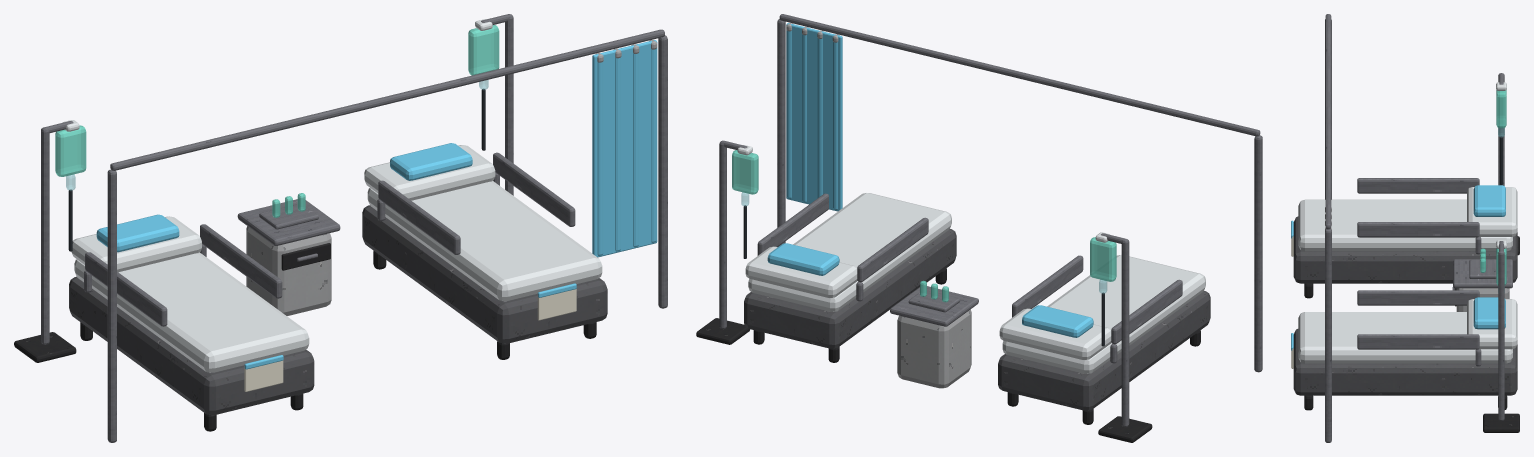
File: decor_med_ward_bay.glb
The picture shows the model from 3 angles, left to right: view 1: azimuth 30°, elevation 25°; view 2: azimuth 150°, elevation 25°; view 3: azimuth 270°, elevation 25°; orthographic projection. The views are drawn at different scales.
Visible parts, largest first — view 1: DEC_MedWardBay__Bed_2_Mattress, DEC_MedWardBay__Bed_1_Mattress, DEC_MedWardBay__Curtain, DEC_MedWardBay__Bed_2_Base, DEC_MedWardBay__Bed_1_Base, DEC_MedWardBay__Curtain_Rail, DEC_MedWardBay__Side_Table_Body, DEC_MedWardBay__Bed_2_Headrest, DEC_MedWardBay__Curtain_Post_1, DEC_MedWardBay__Curtain_Post_2, DEC_MedWardBay__Bed_1_Headrest, DEC_MedWardBay__Bed_2_Pillow (+19 smaller); view 2: DEC_MedWardBay__Bed_2_Mattress, DEC_MedWardBay__Bed_2_Base, DEC_MedWardBay__Bed_1_Base, DEC_MedWardBay__Bed_1_Mattress, DEC_MedWardBay__Curtain, DEC_MedWardBay__Side_Table_Body, DEC_MedWardBay__Curtain_Rail, DEC_MedWardBay__Bed_2_Headrest, DEC_MedWardBay__Bed_1_Headrest, DEC_MedWardBay__Curtain_Post_1, DEC_MedWardBay__Curtain_Post_2, DEC_MedWardBay__IV_1_Post (+17 smaller); view 3: DEC_MedWardBay__Bed_1_Mattress, DEC_MedWardBay__Bed_2_Mattress, DEC_MedWardBay__Bed_2_Base, DEC_MedWardBay__Bed_1_Base, DEC_MedWardBay__Bed_1_Rail_2, DEC_MedWardBay__Bed_2_Rail_2, DEC_MedWardBay__Bed_2_Rail_1, DEC_MedWardBay__Bed_1_Rail_1, DEC_MedWardBay__Curtain_Rail, DEC_MedWardBay__Curtain_Post_2, DEC_MedWardBay__Bed_1_Headrest, DEC_MedWardBay__Bed_2_Headrest (+10 smaller).
Boxes of the visible parts, x1=… form: DEC_MedWardBay__Bed_2_Mattress: x1=367, y1=181, x2=602, y2=301; DEC_MedWardBay__Bed_1_Mattress: x1=74, y1=252, x2=309, y2=372; DEC_MedWardBay__Curtain: x1=592, y1=40, x2=657, y2=257; DEC_MedWardBay__Bed_2_Base: x1=362, y1=205, x2=607, y2=343; DEC_MedWardBay__Bed_1_Base: x1=69, y1=276, x2=314, y2=415; DEC_MedWardBay__Curtain_Rail: x1=110, y1=29, x2=664, y2=170; DEC_MedWardBay__Side_Table_Body: x1=246, y1=226, x2=331, y2=315; DEC_MedWardBay__Bed_2_Headrest: x1=364, y1=145, x2=495, y2=200; DEC_MedWardBay__Curtain_Post_1: x1=107, y1=169, x2=116, y2=442; DEC_MedWardBay__Curtain_Post_2: x1=658, y1=35, x2=667, y2=308; DEC_MedWardBay__Bed_1_Headrest: x1=71, y1=216, x2=201, y2=272; DEC_MedWardBay__Bed_2_Pillow: x1=390, y1=143, x2=472, y2=180; DEC_MedWardBay__Bed_2_Mattress: x1=748, y1=193, x2=951, y2=311; DEC_MedWardBay__Bed_2_Base: x1=744, y1=229, x2=956, y2=348; DEC_MedWardBay__Bed_1_Base: x1=998, y1=291, x2=1210, y2=410; DEC_MedWardBay__Bed_1_Mattress: x1=1002, y1=255, x2=1205, y2=373; DEC_MedWardBay__Curtain: x1=786, y1=23, x2=842, y2=211; DEC_MedWardBay__Side_Table_Body: x1=897, y1=309, x2=971, y2=388; DEC_MedWardBay__Curtain_Rail: x1=779, y1=14, x2=1260, y2=136; DEC_MedWardBay__Bed_2_Headrest: x1=745, y1=246, x2=857, y2=298; DEC_MedWardBay__Bed_1_Headrest: x1=999, y1=308, x2=1111, y2=360; DEC_MedWardBay__Curtain_Post_1: x1=1254, y1=135, x2=1262, y2=372; DEC_MedWardBay__Curtain_Post_2: x1=777, y1=19, x2=785, y2=246; DEC_MedWardBay__IV_1_Post: x1=1121, y1=239, x2=1129, y2=427; DEC_MedWardBay__Bed_1_Mattress: x1=1298, y1=199, x2=1512, y2=251; DEC_MedWardBay__Bed_2_Mattress: x1=1298, y1=312, x2=1512, y2=363; DEC_MedWardBay__Bed_2_Base: x1=1293, y1=329, x2=1517, y2=395; DEC_MedWardBay__Bed_1_Base: x1=1293, y1=216, x2=1517, y2=283; DEC_MedWardBay__Bed_1_Rail_2: x1=1357, y1=222, x2=1479, y2=237; DEC_MedWardBay__Bed_2_Rail_2: x1=1357, y1=334, x2=1479, y2=349; DEC_MedWardBay__Bed_2_Rail_1: x1=1357, y1=290, x2=1479, y2=305; DEC_MedWardBay__Bed_1_Rail_1: x1=1357, y1=178, x2=1479, y2=193; DEC_MedWardBay__Curtain_Rail: x1=1325, y1=14, x2=1331, y2=229; DEC_MedWardBay__Curtain_Post_2: x1=1325, y1=229, x2=1331, y2=442; DEC_MedWardBay__Bed_1_Headrest: x1=1467, y1=187, x2=1517, y2=236; DEC_MedWardBay__Bed_2_Headrest: x1=1467, y1=299, x2=1517, y2=349.
Size of the model in its own units: 4.38 by 2.08 by 1.98.
10 materials, 4 textured.
